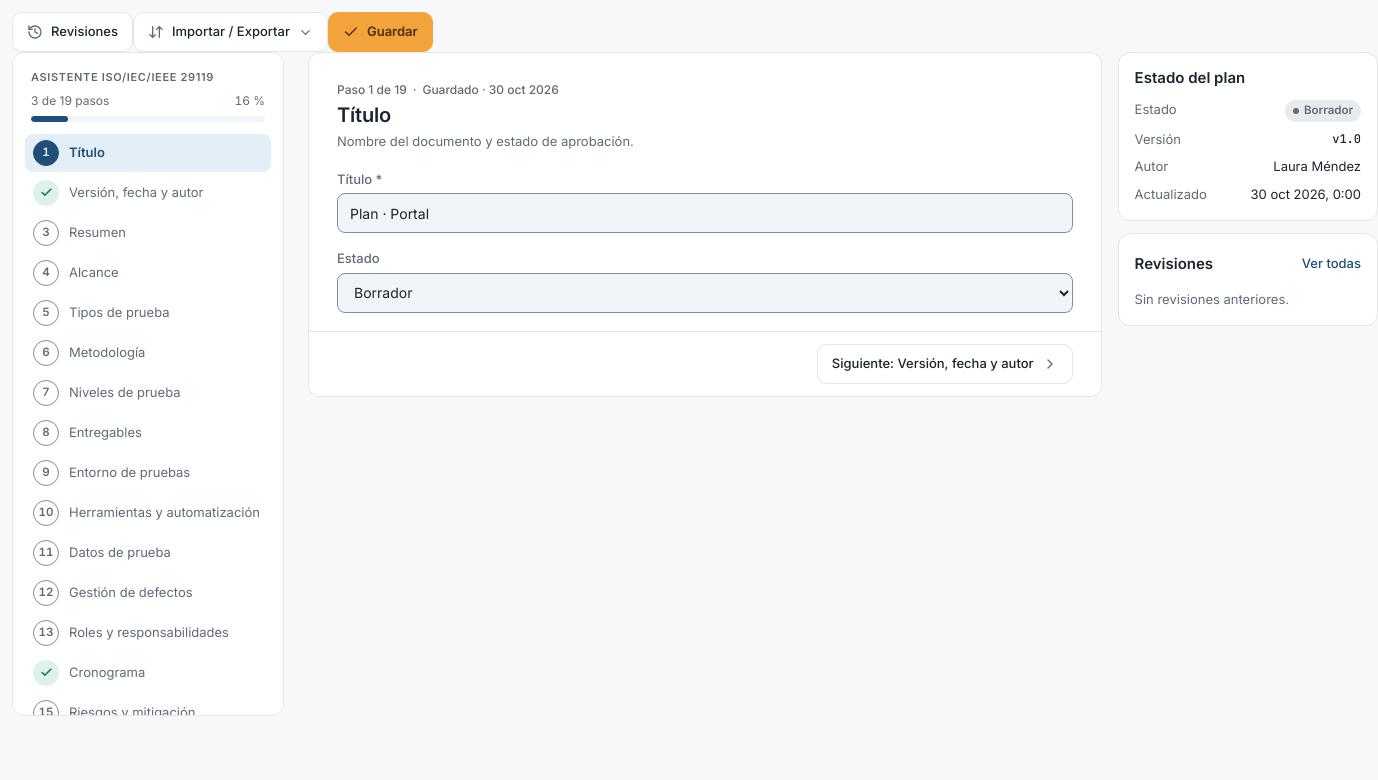
step 14 · Cronograma (RED-W5) › replaces the old step: no «Próximamente», no «Añadir fila», no native date inputs
This screenshot has width=1378, height=780.
Expected: the text "Paso 1 de 19" is shown, [337,81,407,99]
Step 1. Click the button "Cronograma" → [148, 672], box [25,654,271,692]
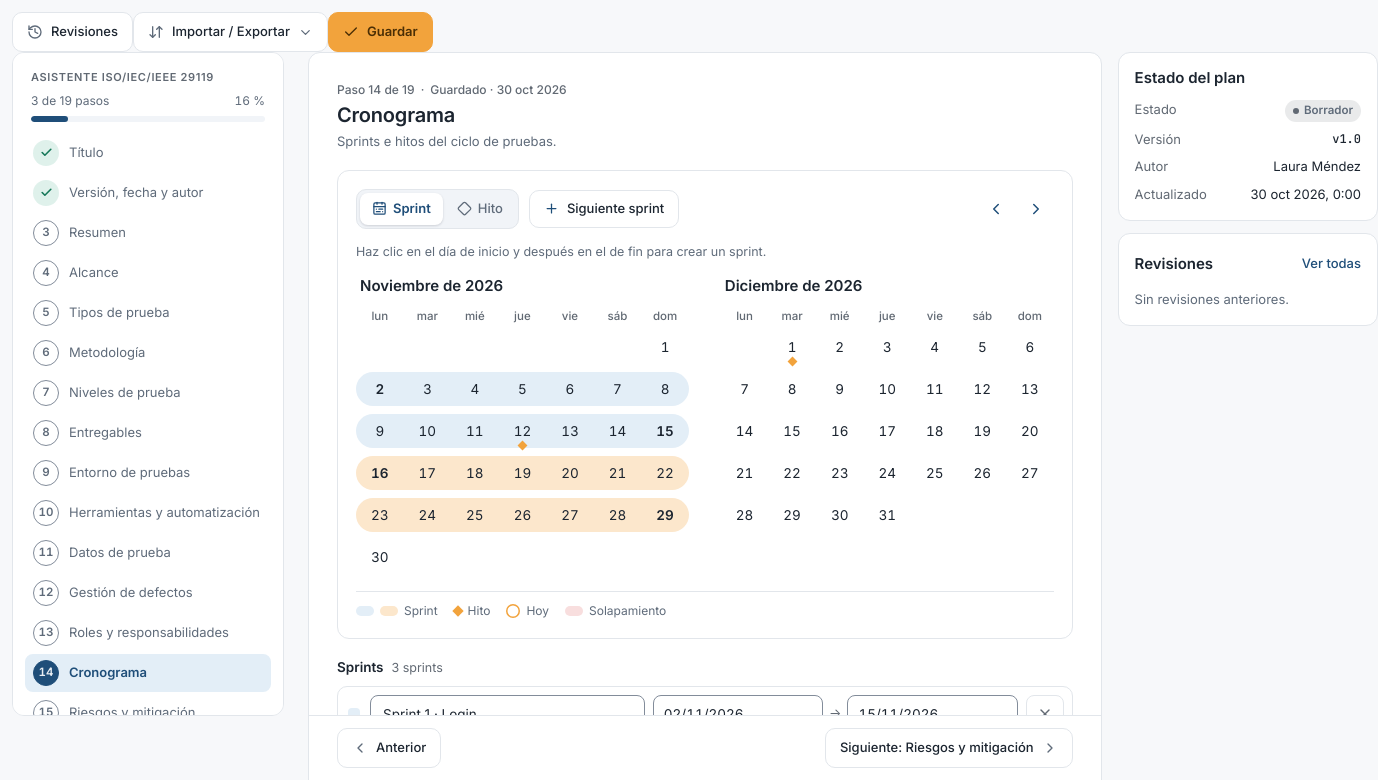
Result: the number of tables is 2 at [356,308,689,577]; [721,308,1054,535]
